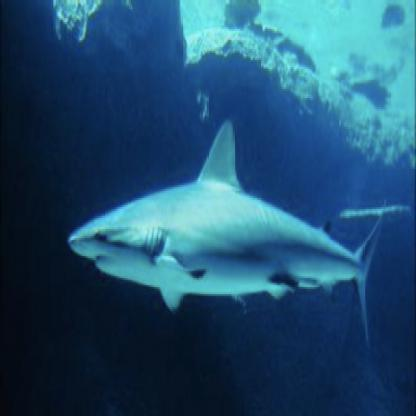shark: (65, 116, 386, 352)
